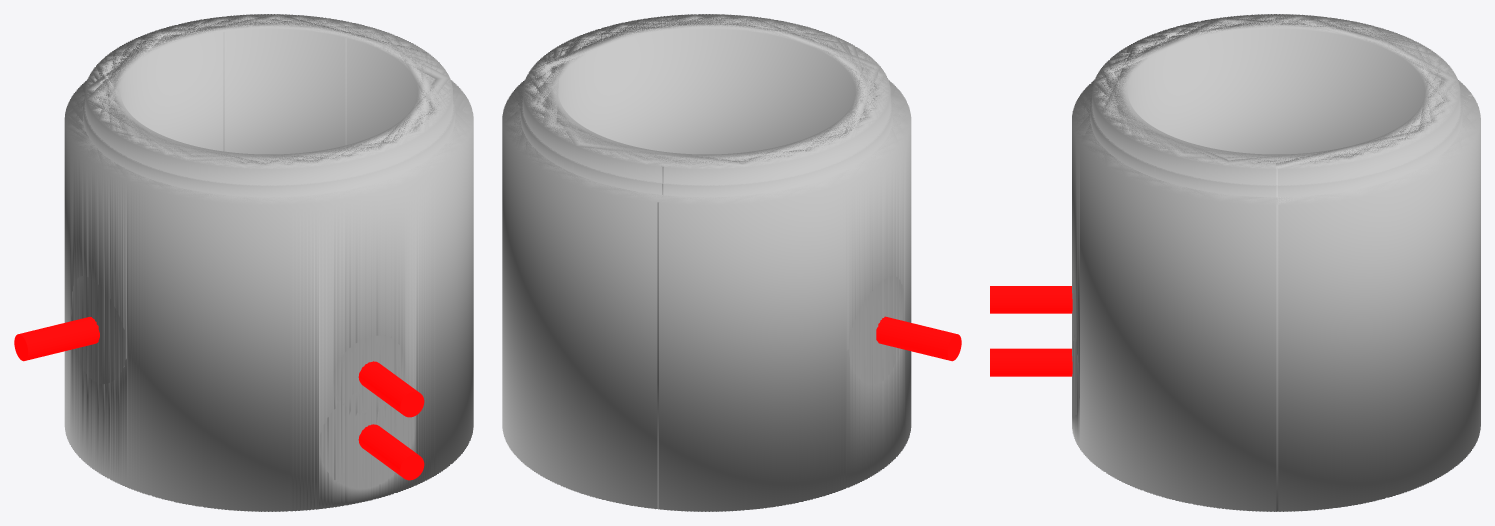
The model's file is LOT129_15e1f82b.glb.
3 renders of one model, left to right at view 1: azimuth 30°, elevation 25°; view 2: azimuth 150°, elevation 25°; view 3: azimuth 270°, elevation 25°, orthographic.
Parts seen in each view (by area): view 1: 1200x1.219r_Obj, Cylinder.003, Cylinder.005, Cylinder.001; view 2: 1200x1.219r_Obj, Cylinder.003; view 3: 1200x1.219r_Obj, Cylinder.001, Cylinder.005.
Boxes of the visible parts, bbox=[...] form: 1200x1.219r_Obj: bbox=[64, 14, 473, 511]; Cylinder.003: bbox=[14, 317, 99, 361]; Cylinder.005: bbox=[358, 361, 424, 417]; Cylinder.001: bbox=[358, 424, 424, 480]; 1200x1.219r_Obj: bbox=[502, 14, 911, 511]; Cylinder.003: bbox=[876, 316, 961, 361]; 1200x1.219r_Obj: bbox=[1072, 14, 1480, 511]; Cylinder.001: bbox=[990, 348, 1072, 376]; Cylinder.005: bbox=[990, 286, 1072, 313].
Size of the model in its own units: 1.77 by 1.33 by 1.77.
